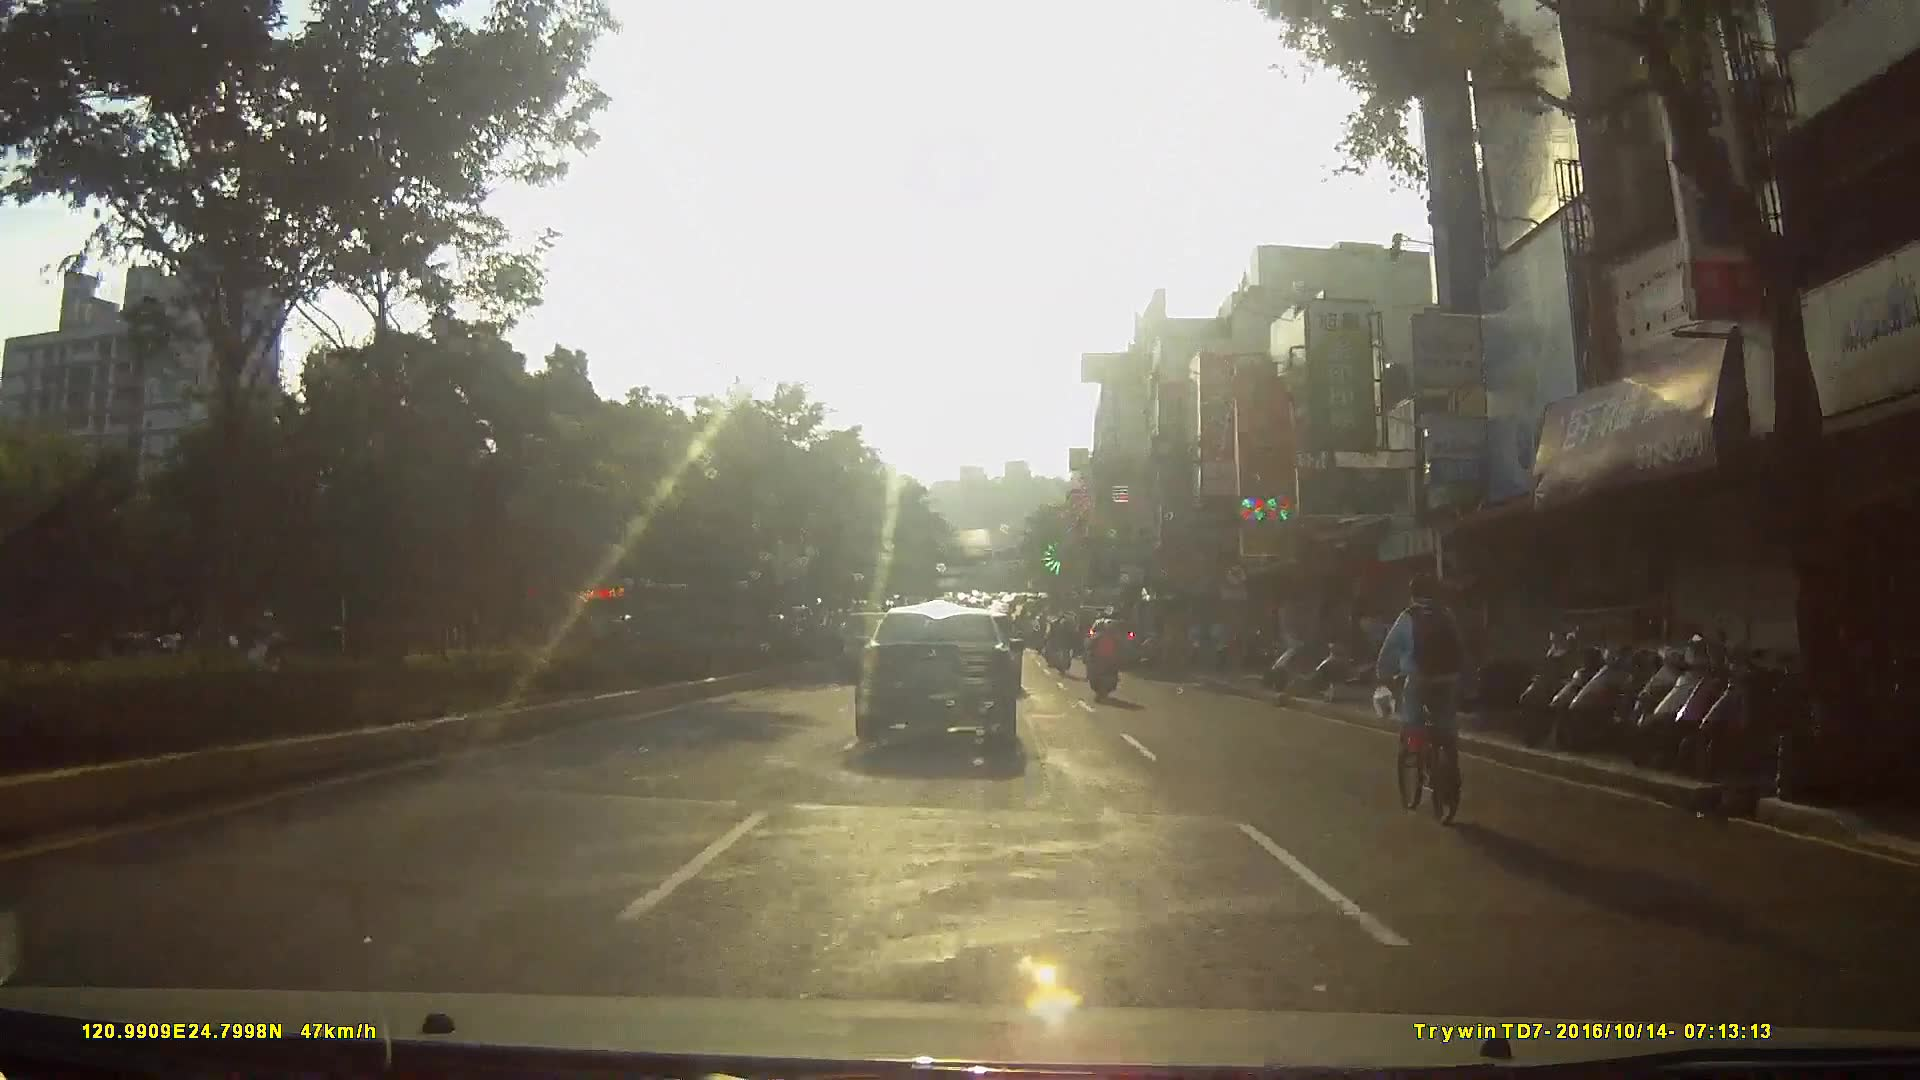rider: (1374, 570, 1470, 824), (1083, 622, 1121, 711), (241, 610, 286, 680), (1047, 617, 1074, 675)
vehicle: (850, 600, 1034, 767), (1079, 612, 1145, 669)
